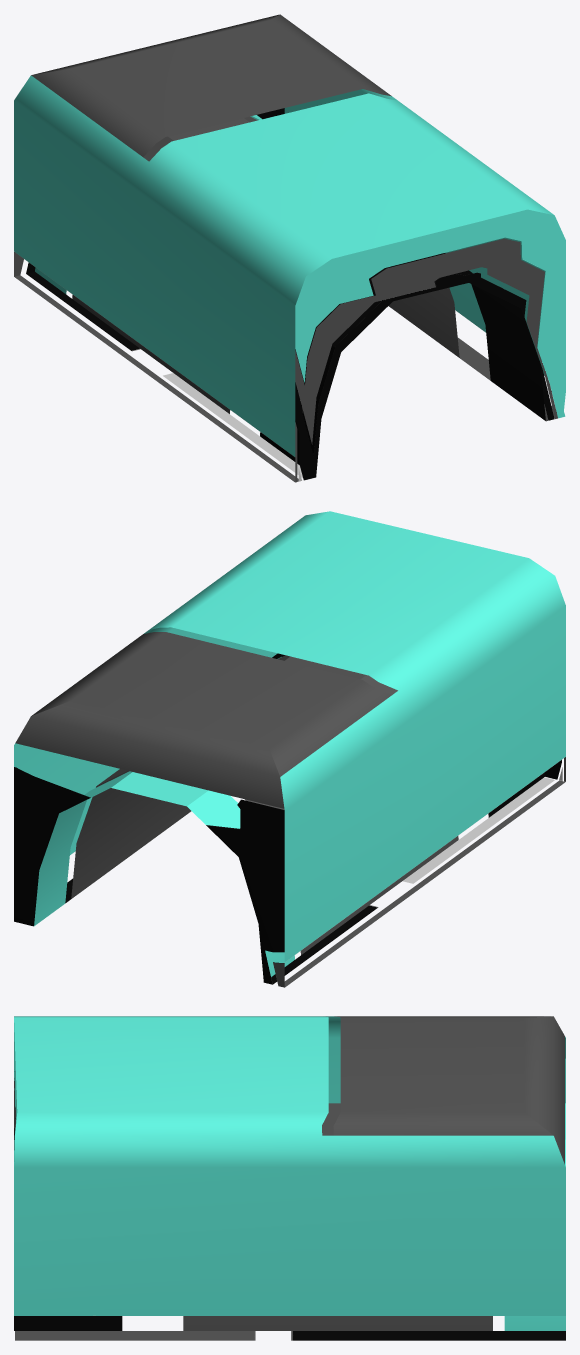
File: Sewer 2.fbx
3 renders of one model, top to bottom at view 1: azimuth 30°, elevation 25°; view 2: azimuth 150°, elevation 25°; view 3: azimuth 270°, elevation 25°, orthographic.
Parts seen in each view (by area): view 1: Sewer2; view 2: Sewer2; view 3: Sewer2.
Boxes of the visible parts, left/top/right/bottom form: Sewer2: left=14, top=14, right=565, bottom=482; Sewer2: left=14, top=511, right=565, bottom=987; Sewer2: left=14, top=1016, right=565, bottom=1340.
Bounding box in the file's own units: 12.15 × 9.2 × 21.85.
1 material, 1 textured.
